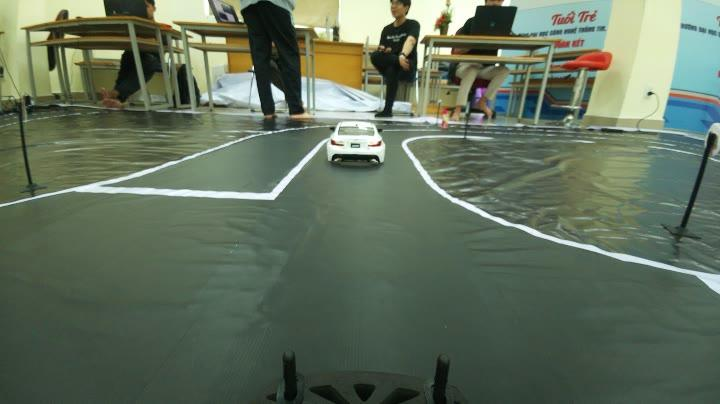car: (318, 120, 394, 166)
